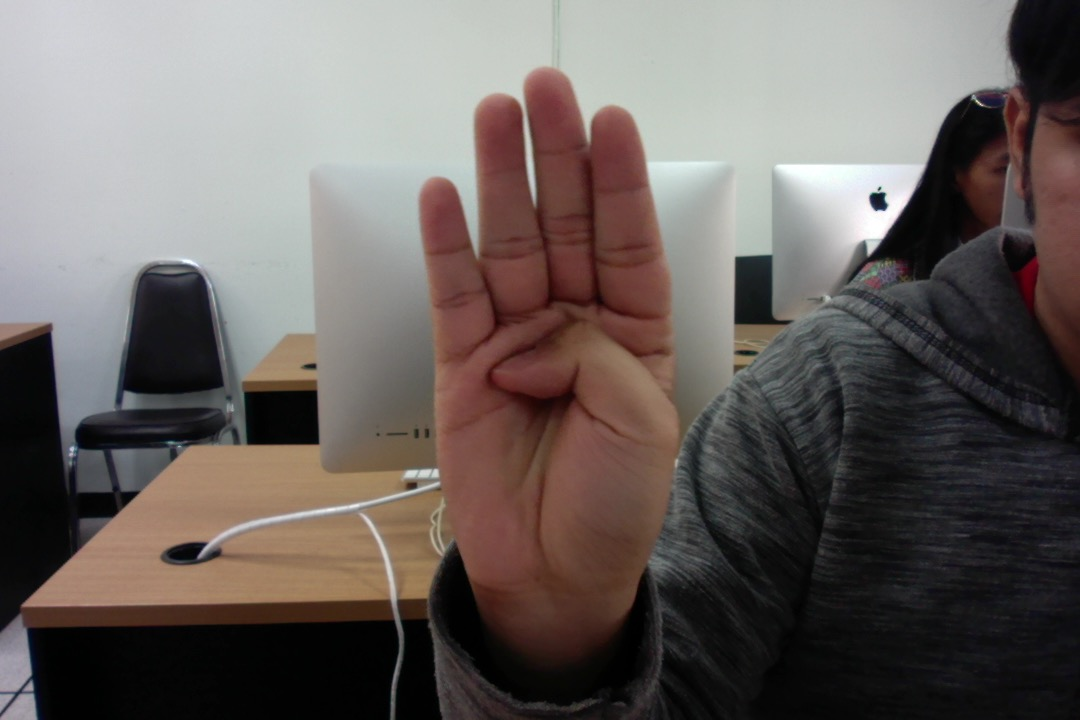bor: (405, 55, 686, 669)
